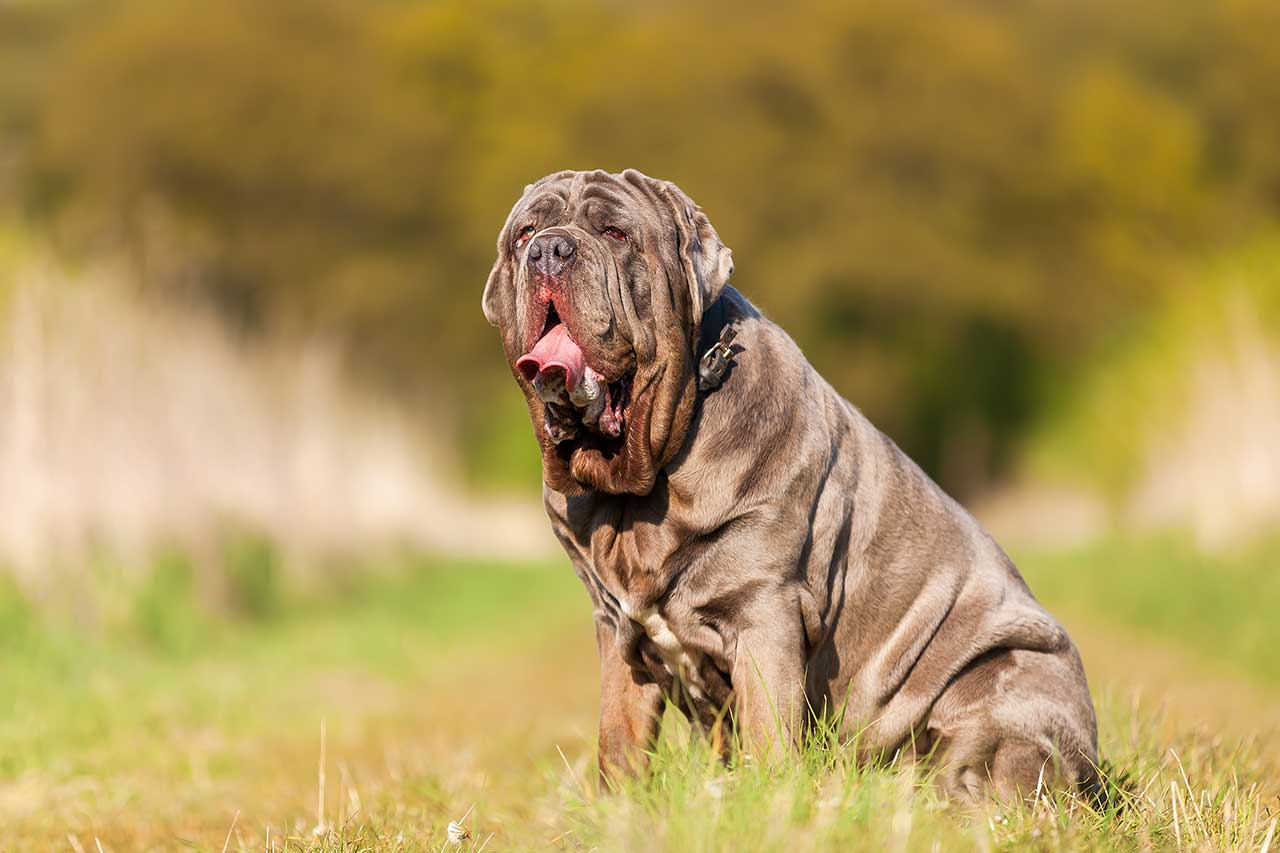neapolitan_mastiff: (480, 168, 1098, 812)
